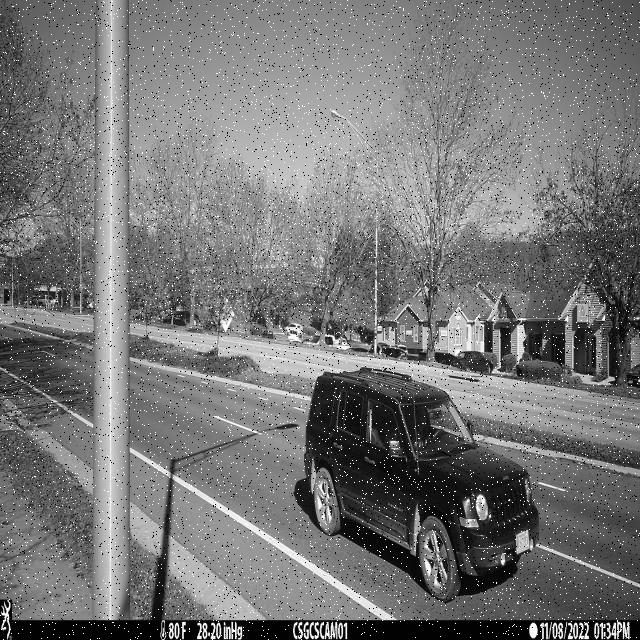SUV: (304, 368, 540, 604)
